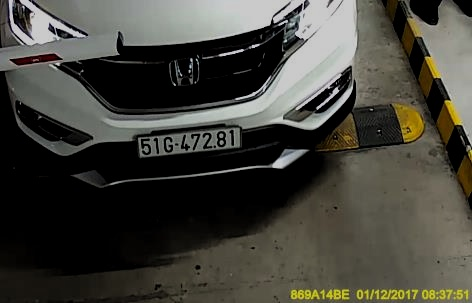plate: (135, 127, 243, 156)
